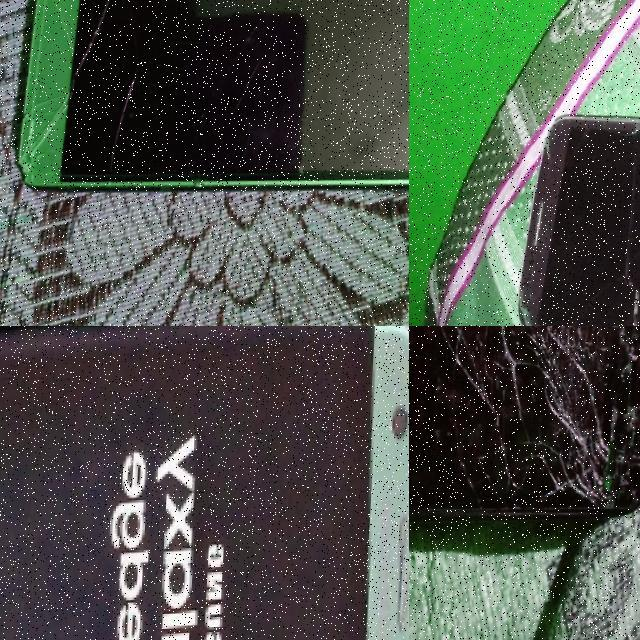scratch: (283, 0, 333, 21)
screen crack: (435, 326, 640, 527), (21, 0, 181, 202), (547, 298, 640, 326), (610, 81, 640, 167)
